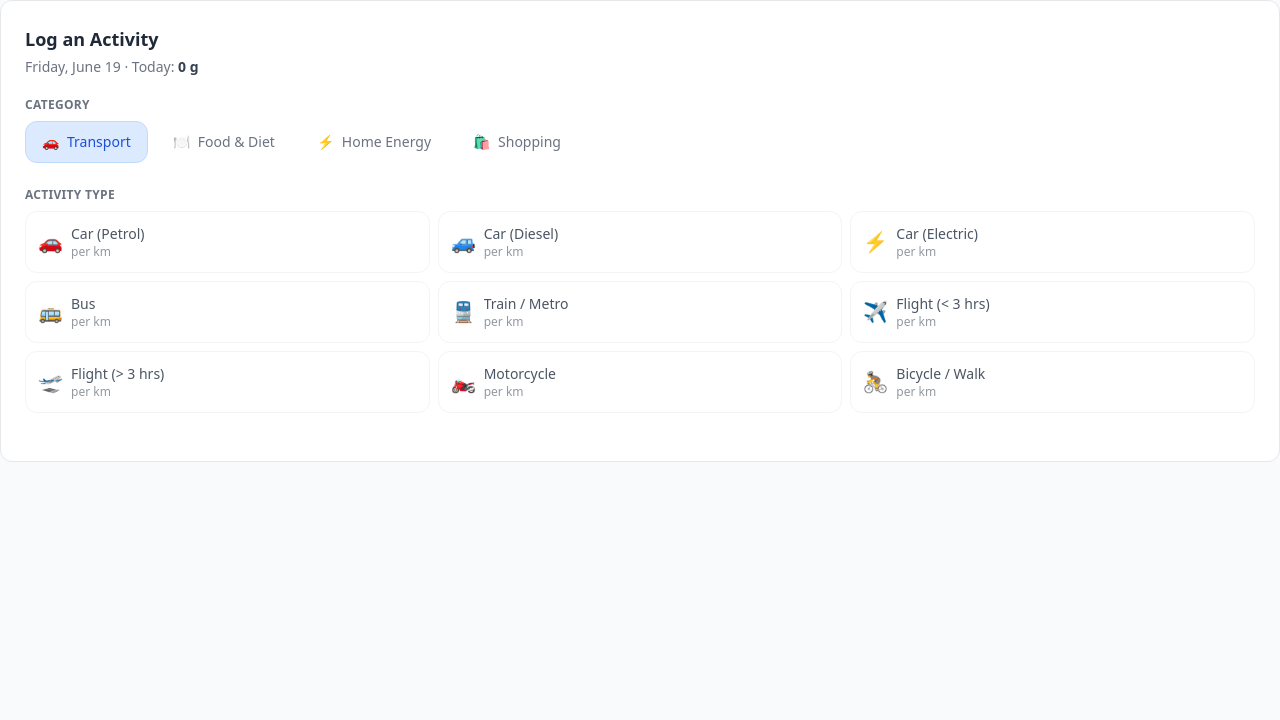
LogActivity › shows quantity input when an activity type is selected
The image size is (1280, 720).
Click the text "Car (Petrol)". click: click(108, 234)
box: [71,224,144,244]
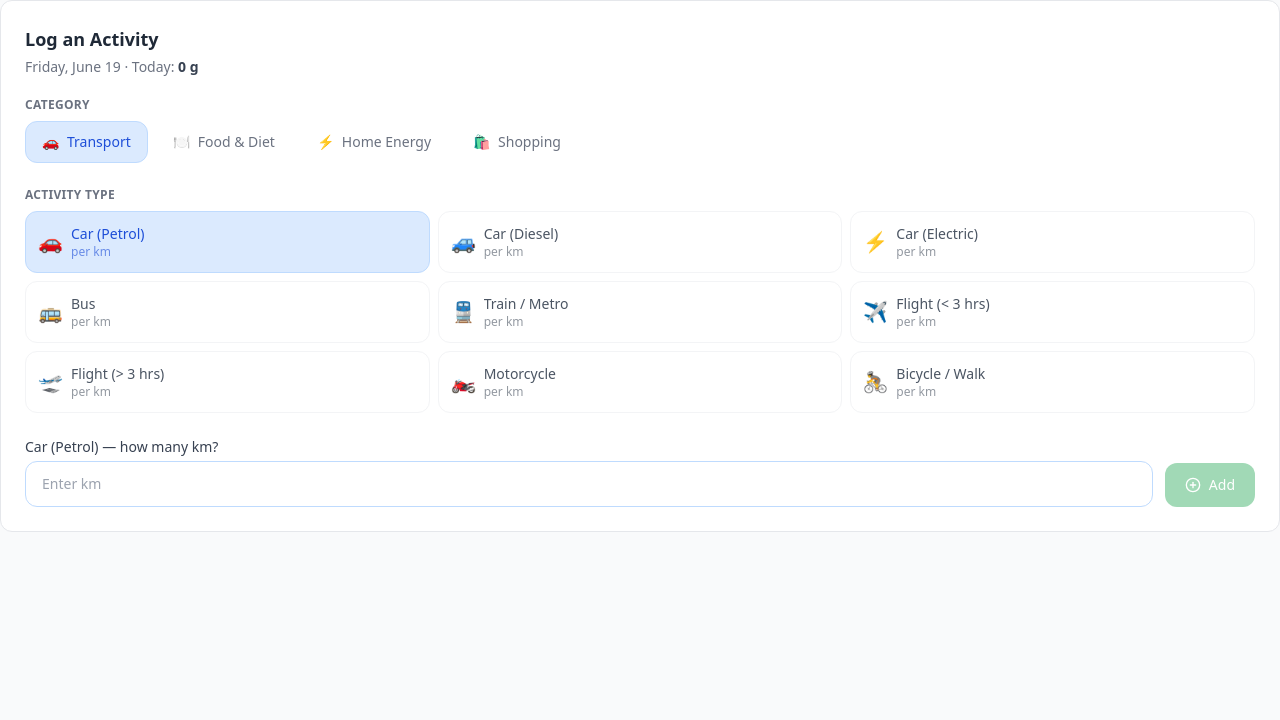
Check: the number field is shown, box [25,461,1153,507]
